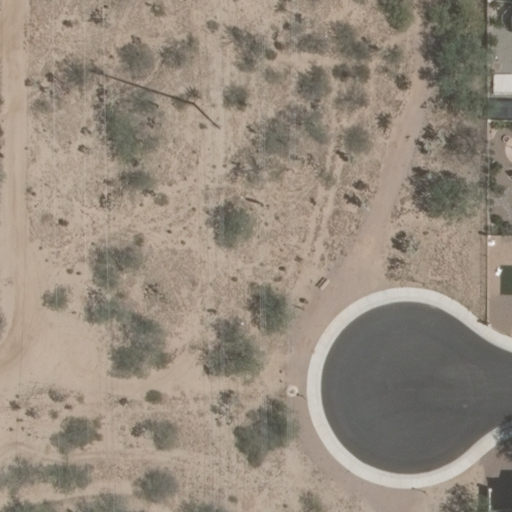DT: (186, 96, 223, 133)
